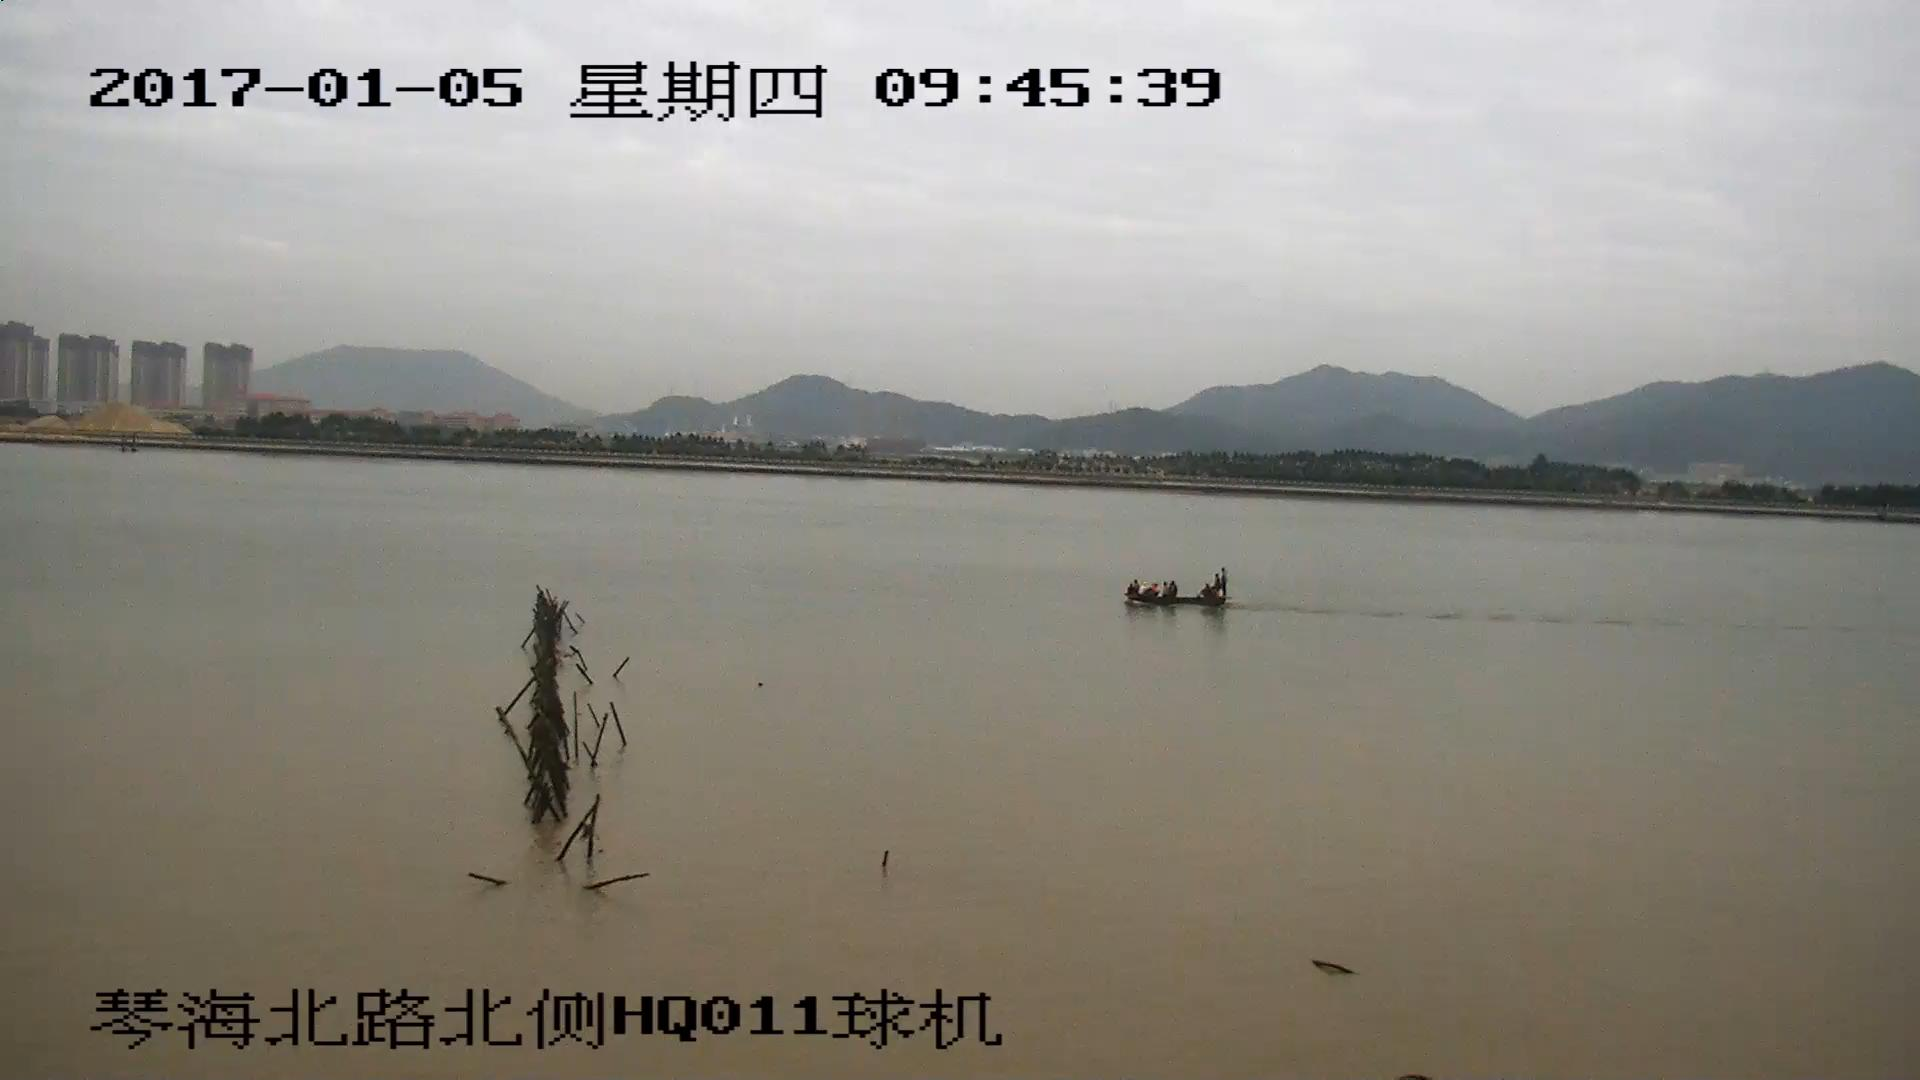fishing boat: (1125, 574, 1230, 603)
